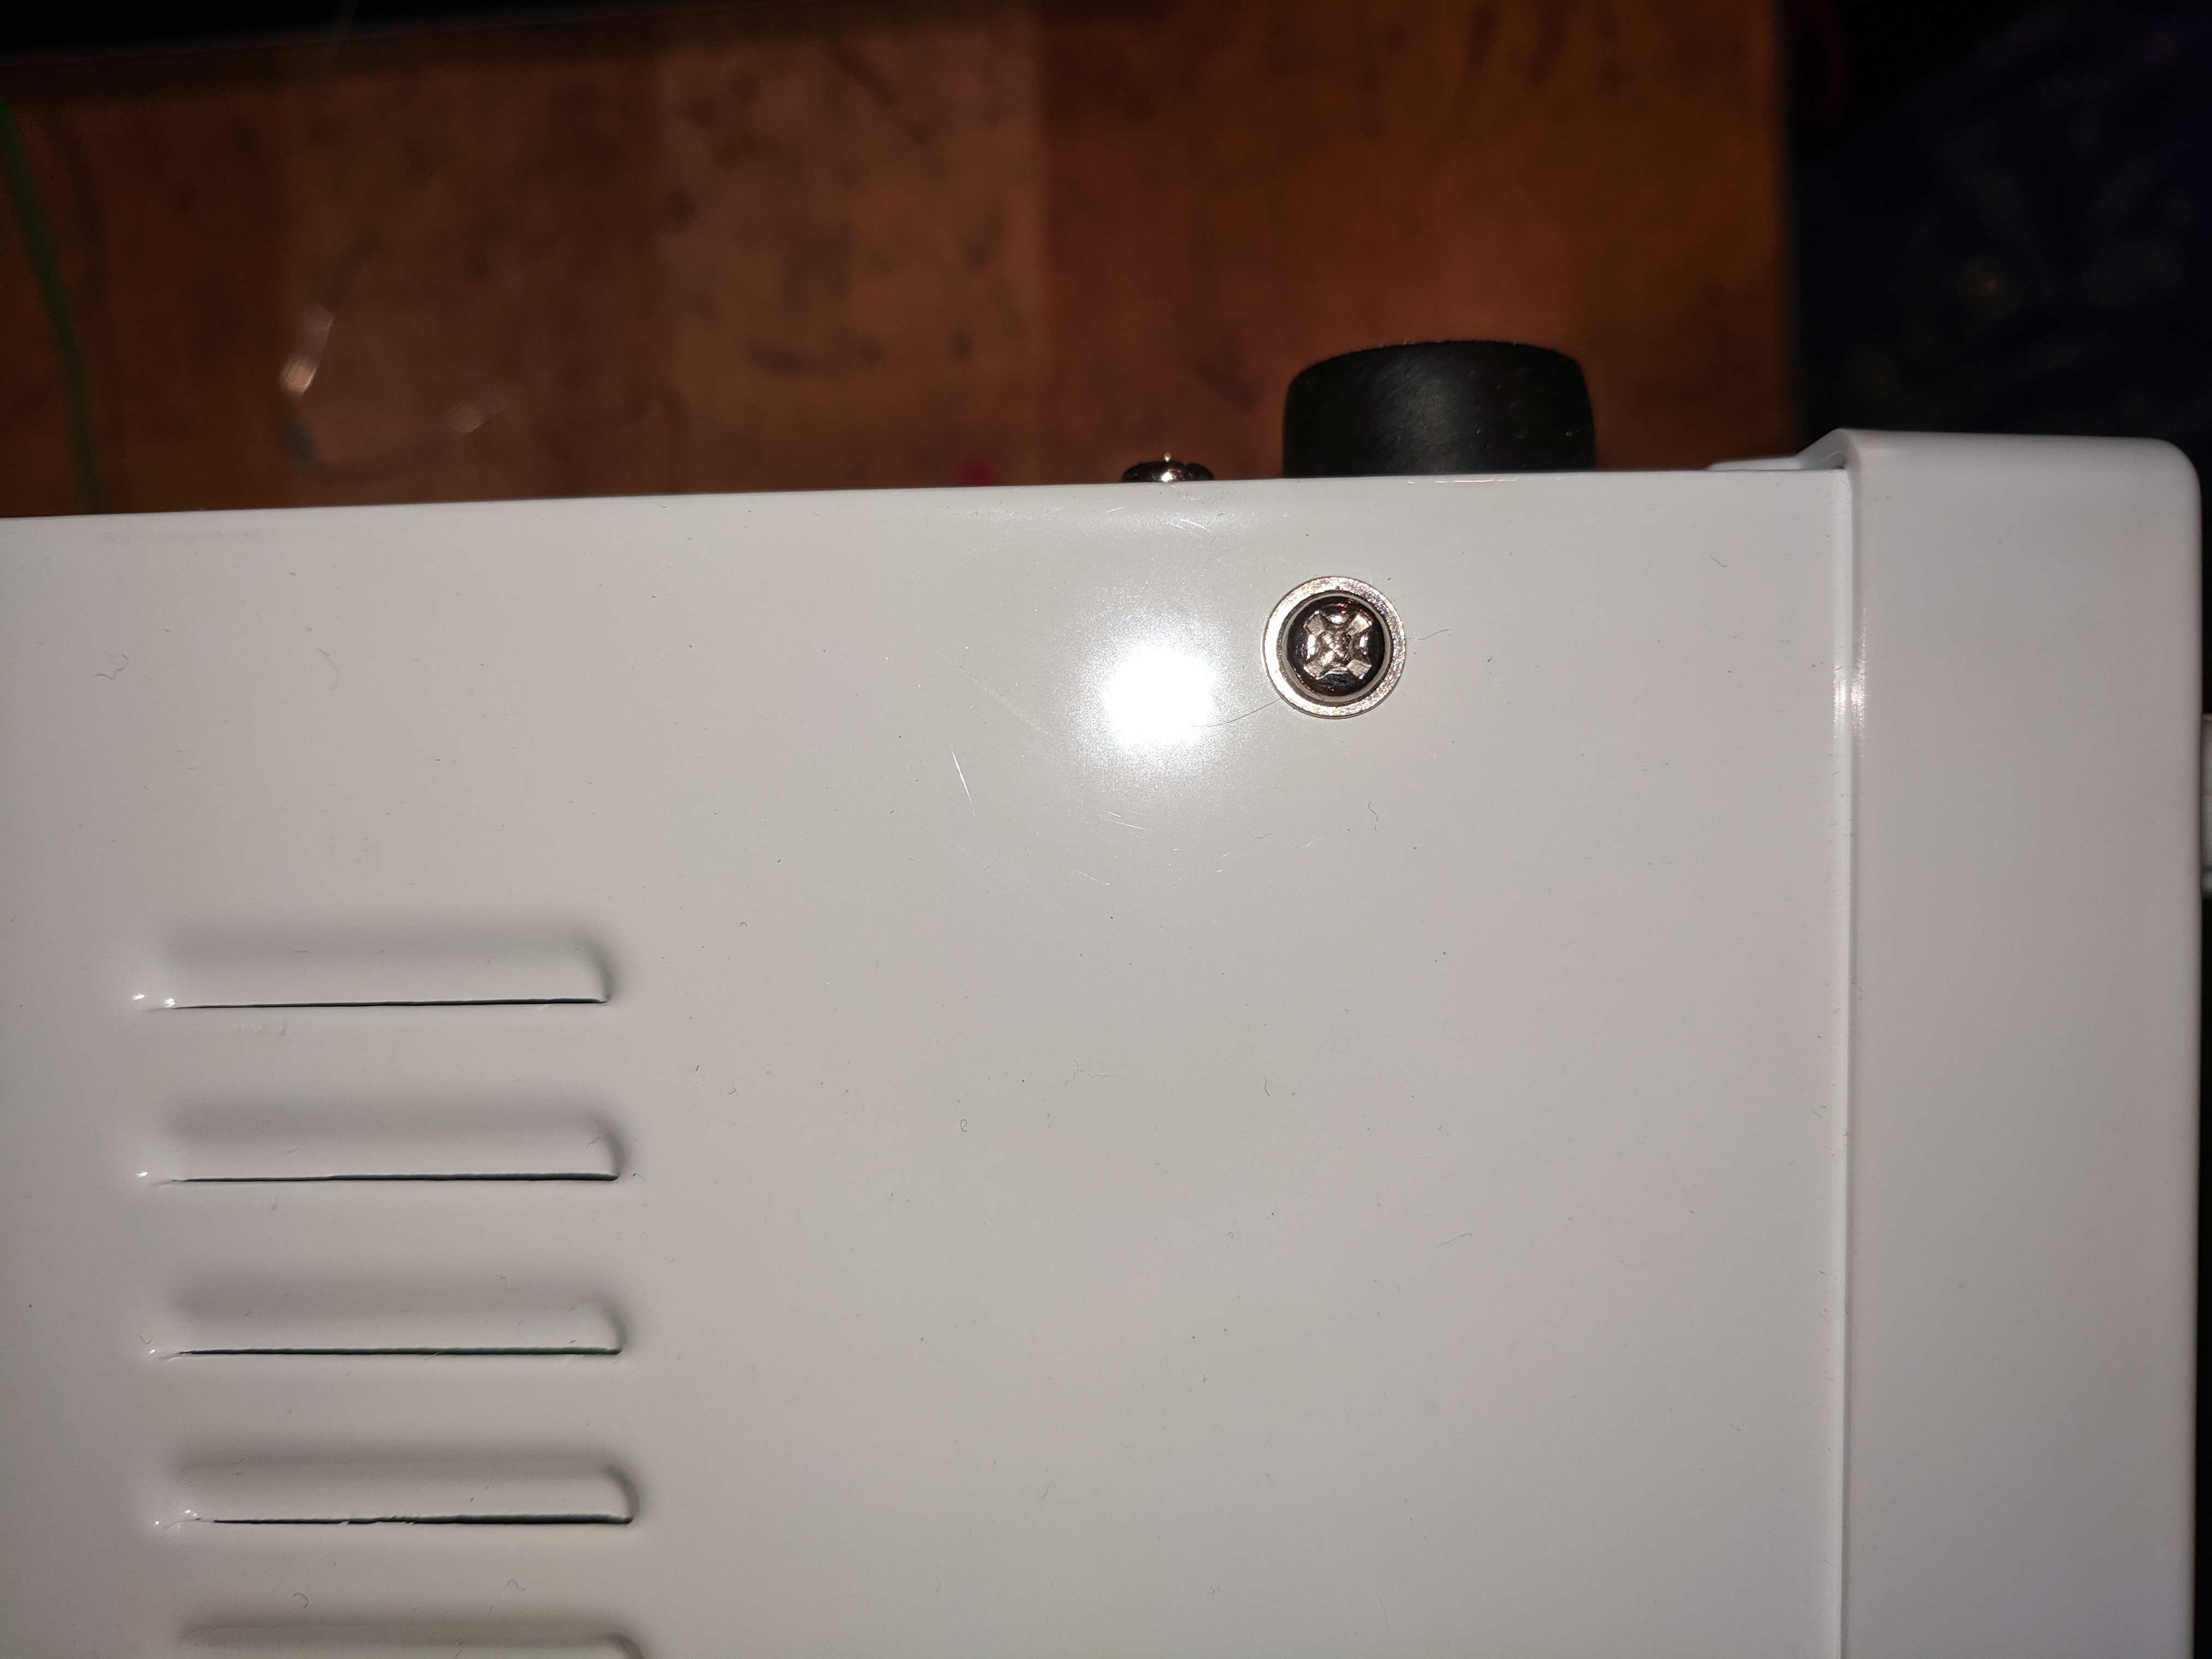cross_recessed_screw: (1268, 580, 1393, 702)
